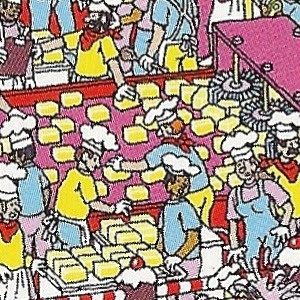Charlie: (140, 120, 160, 180)
